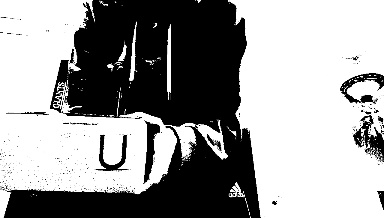U: (92, 132, 128, 168)
